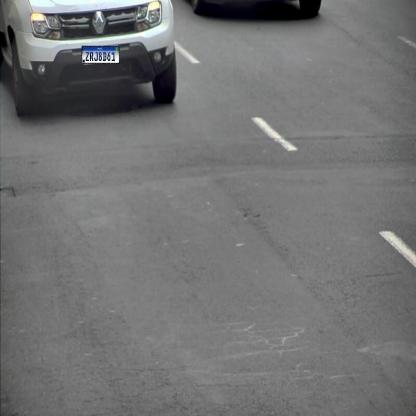PlacaM: (82, 46, 119, 64)
